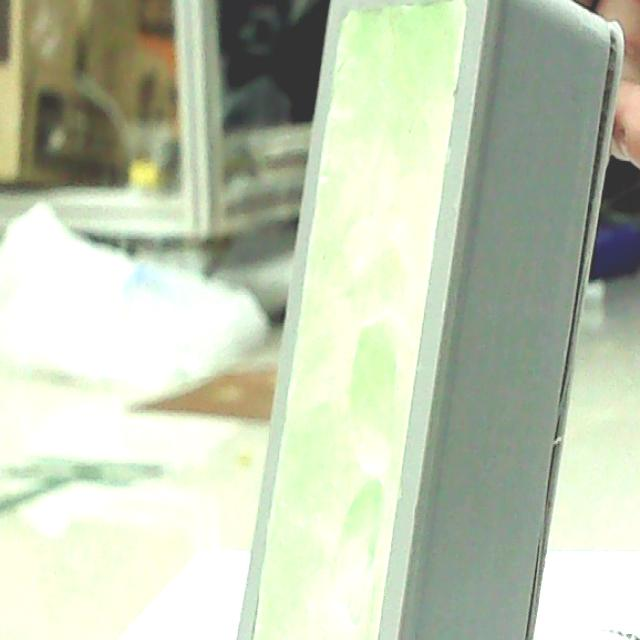block: (214, 0, 626, 640)
